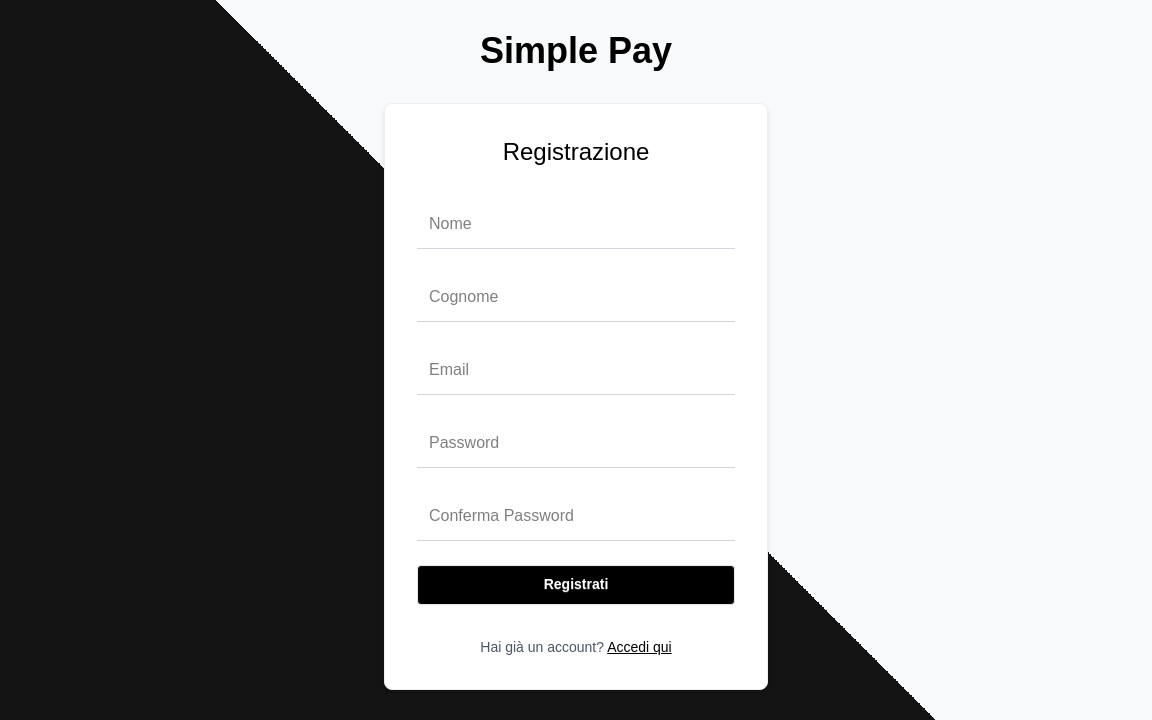
Register Page › should navigate to login page when clicking login link
Click the link to "/login" at point(640, 647), box 607,639 -> 672,655
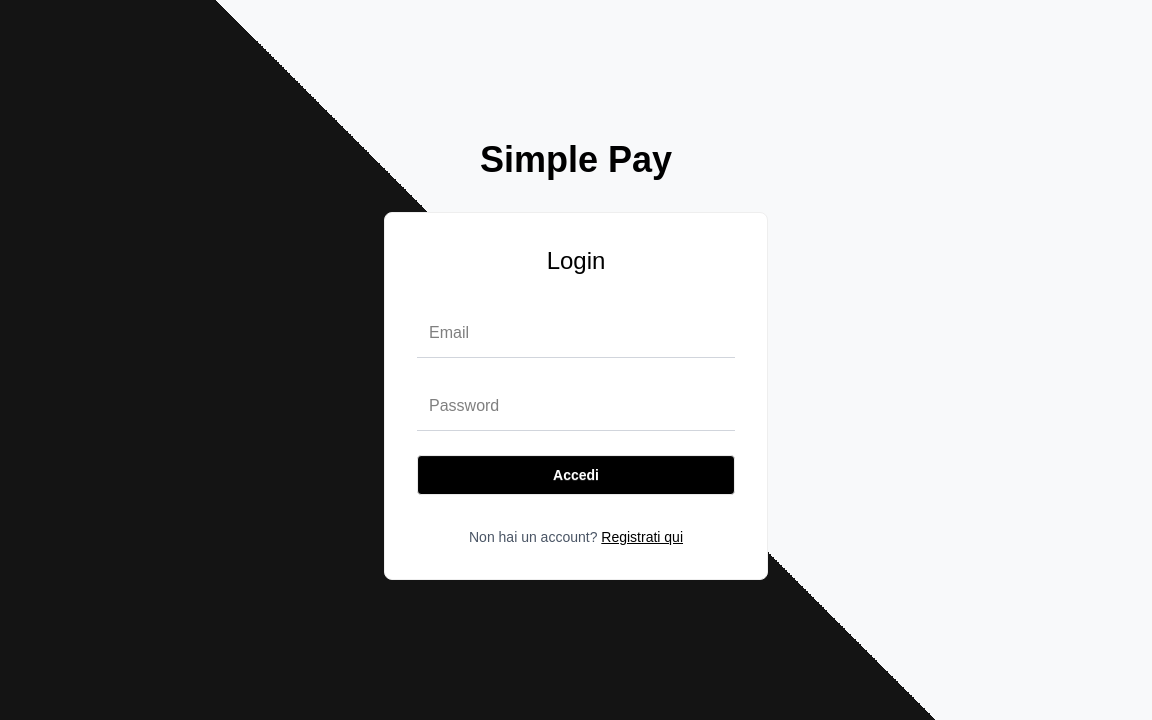
Expected: the heading "Login" is shown, 547,247 -> 605,274
